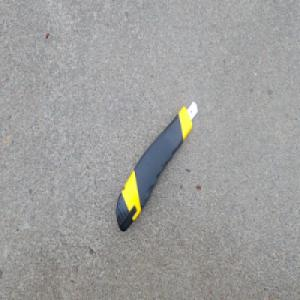Cutter: (115, 100, 198, 232)
